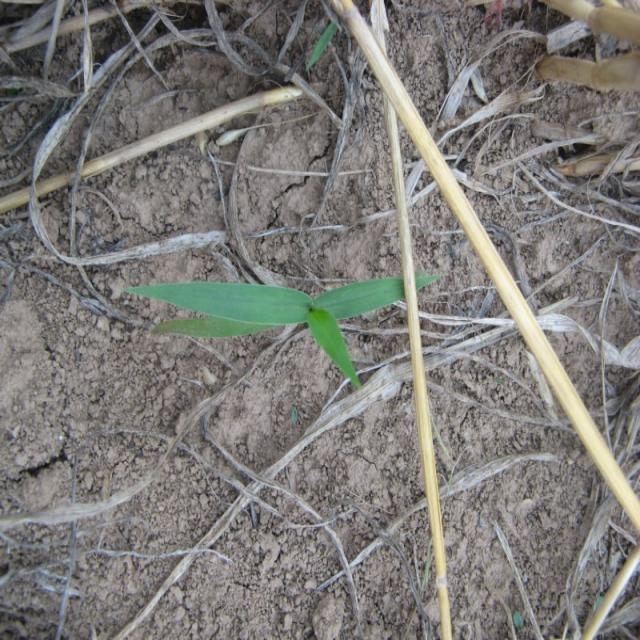bg: (121, 263, 449, 395)
